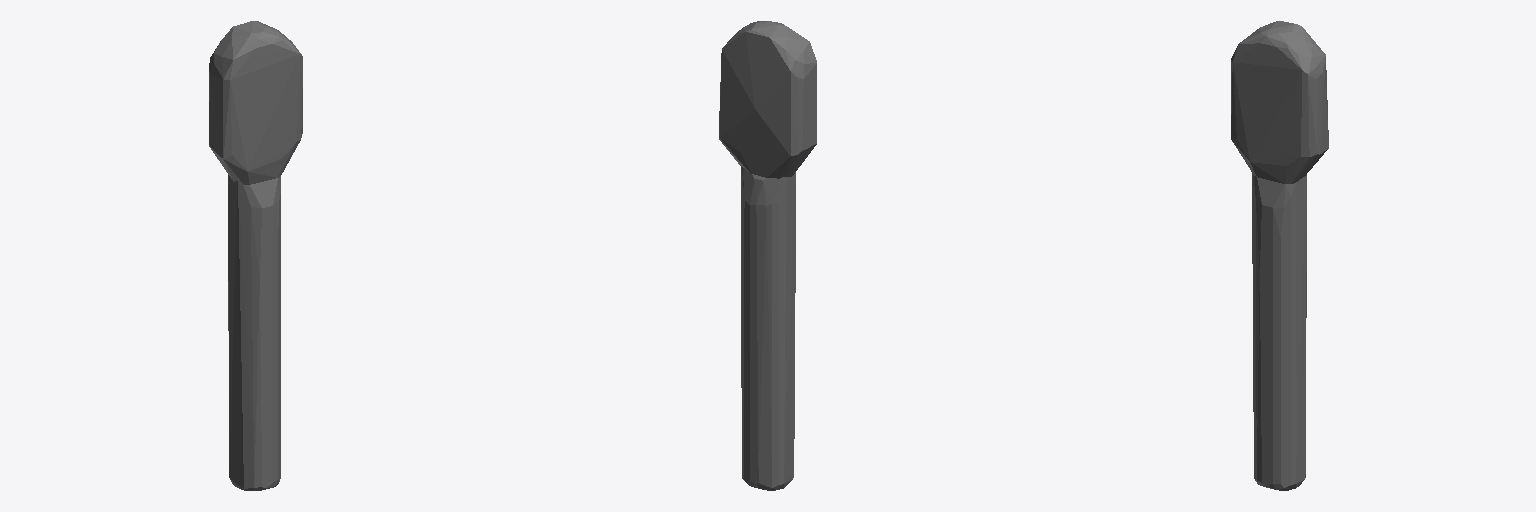
robot.urdf — wrench_005:
<?xml version="1.0" ?>
<robot name="wrench_005">
  <material name="color">
    <color rgba=".5 .5 .5 1"/>
  </material>

  <link name="base_link">
    <contact>
      <lateral_friction value="1.0"/>
      <rolling_friction value="0.001"/>
      <spinning_friction value="0.001"/>
      <inertia_scaling value="1.0"/>
    </contact>
    <inertial>
      <origin rpy="0 0 0" xyz="2.15611e-06 -0.00124124 0.0129137"/>
       <mass value="0.1"/>
       <inertia ixx="1" ixy="0" ixz="0" iyy="1" iyz="0" izz="1"/>
    </inertial>

    <visual>
      <origin rpy="0 0 0" xyz="0 0 0"/>
      <geometry>
        <mesh filename="wrench_005_vhacd_0_of_2.obj" scale="1 1 1"/>
      </geometry>
      <material name="color"/>
    </visual>
    <visual>
      <origin rpy="0 0 0" xyz="0 0 0"/>
      <geometry>
        <mesh filename="wrench_005_vhacd_1_of_2.obj" scale="1 1 1"/>
      </geometry>
      <material name="color"/>
    </visual>

    <collision>
      <origin rpy="0 0 0" xyz="0 0 0"/>
      <geometry>
        <mesh filename="wrench_005_vhacd_0_of_2.obj" scale="1 1 1"/>
      </geometry>
    </collision>
    <collision>
      <origin rpy="0 0 0" xyz="0 0 0"/>
      <geometry>
        <mesh filename="wrench_005_vhacd_1_of_2.obj" scale="1 1 1"/>
      </geometry>
    </collision>

  </link>
</robot>

--- Render facts (derived) ---
3 views of the same robot in one strip: view 1: azimuth 30°, elevation 25°; view 2: azimuth 150°, elevation 25°; view 3: azimuth 330°, elevation 25° (orthographic).
Model wrench_005 with 1 links and 0 joints (none), rooted at base_link, posed every joint at zero.
Visible links, largest first — view 1: base_link; view 2: base_link; view 3: base_link.
Boxes of the visible links, left/top/right/bottom form: base_link: left=209, top=21, right=302, bottom=490; base_link: left=719, top=21, right=816, bottom=490; base_link: left=1231, top=21, right=1328, bottom=490.
Bounding box of the posed robot: 0.0401 × 0.0222 × 0.2103 m (x, y, z).
2 mesh visuals loaded from 2 distinct referenced files (2 OBJ).